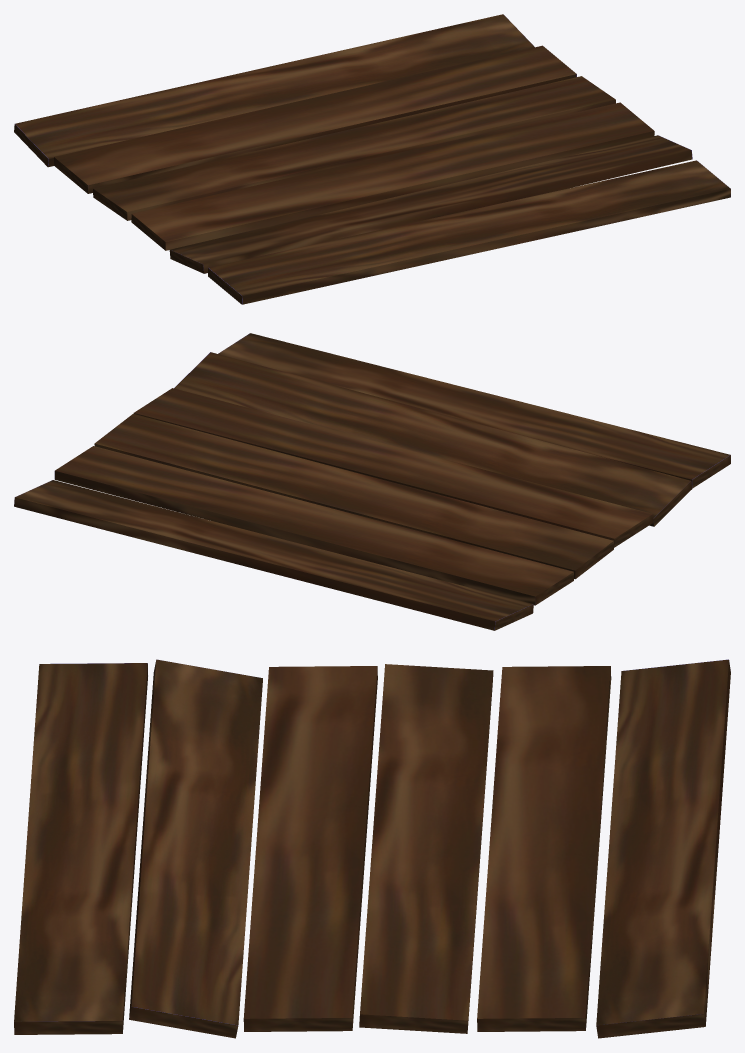
Rendered from Caminho3.fbx.
3 renders of one model, top to bottom at view 1: azimuth 30°, elevation 25°; view 2: azimuth 150°, elevation 25°; view 3: azimuth 270°, elevation 25°, orthographic. The views are drawn at different scales.
Visible parts, largest first — view 1: Way.2; view 2: Way.2; view 3: Way.2.
Boxes of the visible parts, bbox=[...] form: Way.2: bbox=[14, 14, 730, 304]; Way.2: bbox=[14, 333, 730, 630]; Way.2: bbox=[14, 659, 730, 1038].
Bounding box in the file's own units: 297 × 13.86 × 255.
